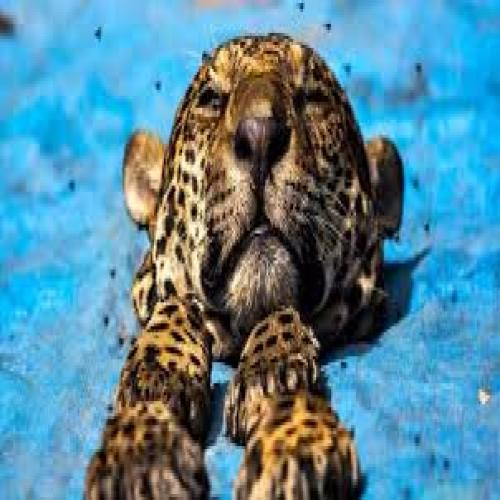jaguar_not-endangered: (109, 38, 383, 500)
